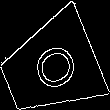O_SW: (21, 37, 79, 98)
